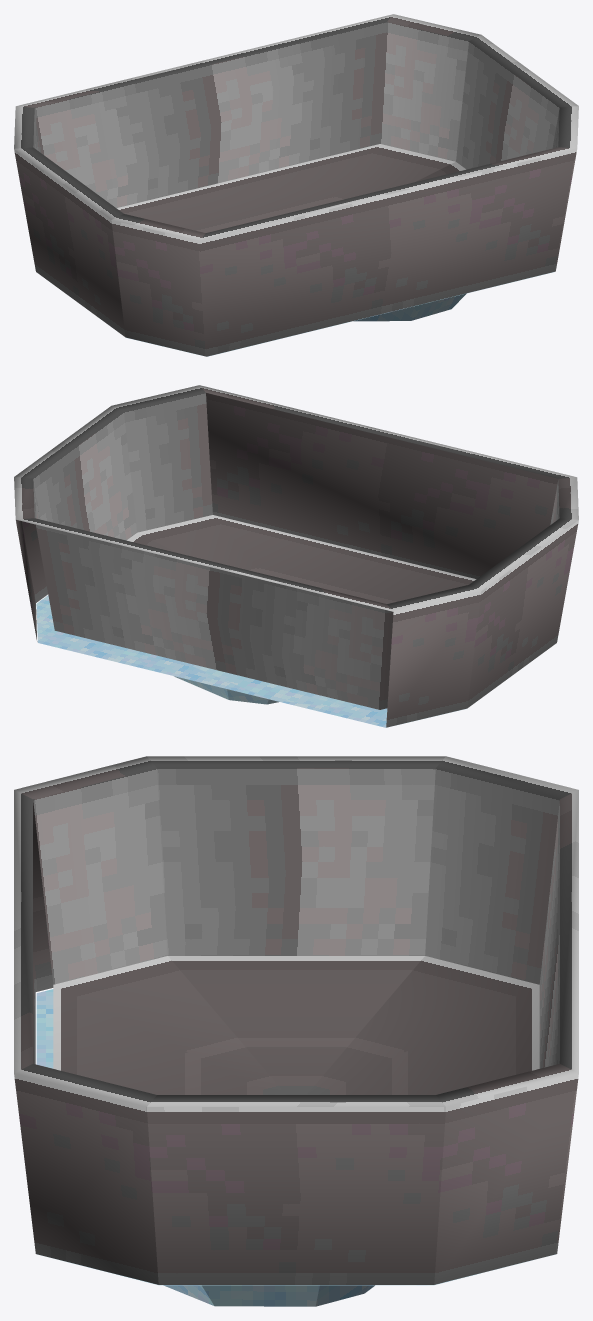
3 views of the same model, one above another, from view 1: azimuth 30°, elevation 25°; view 2: azimuth 150°, elevation 25°; view 3: azimuth 270°, elevation 25° (orthographic). The views are drawn at different scales.
Visible parts, largest first — view 1: ice_box2; view 2: ice_box2; view 3: ice_box2.
Boxes of the visible parts, x1,y1,x2,y2 form: ice_box2: (14,14,578,356); ice_box2: (14,385,578,727); ice_box2: (14,756,578,1306).
Size of the model in its own units: 0.6354 by 0.2268 by 0.4326.
2 materials, 2 textured.
